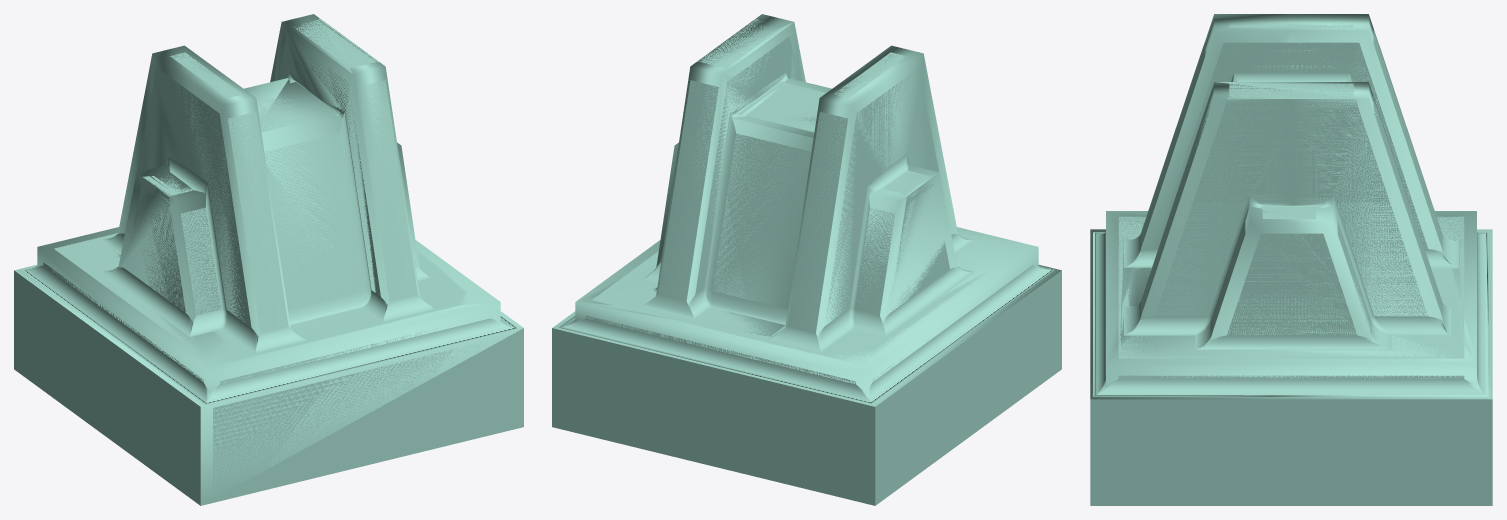
The model's file is space-kit__machine_generatorLarge.glb.
3 views of the same model, side by side, from view 1: azimuth 30°, elevation 25°; view 2: azimuth 150°, elevation 25°; view 3: azimuth 270°, elevation 25° (orthographic). The views are drawn at different scales.
Parts seen in each view (by area): view 1: L1_accent, L0_accent; view 2: L0_accent, L1_accent; view 3: L0_accent, L1_accent.
Boxes of the visible parts, x1,y1,x2,y2 form: L1_accent: (14,14,523,505); L0_accent: (21,18,517,498); L0_accent: (559,19,1054,498); L1_accent: (552,14,1061,505); L0_accent: (1093,21,1488,501); L1_accent: (1090,14,1492,505).
Size of the model in its own units: 1 by 1 by 1.
